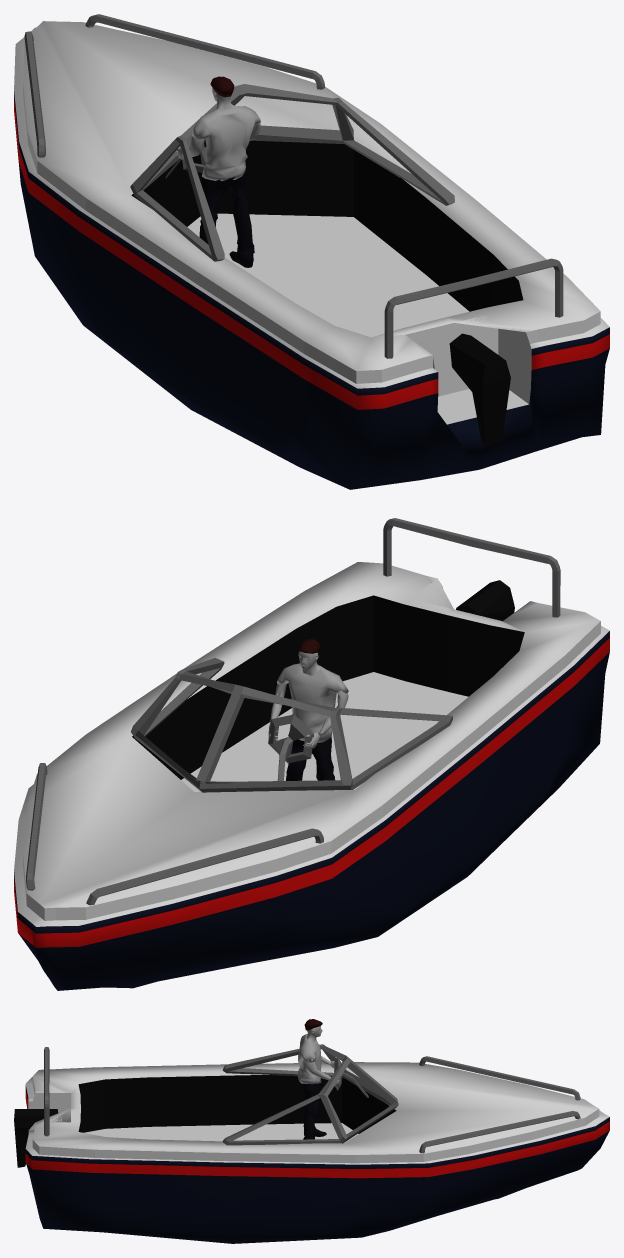
File: boat.fbx
3 renders of one model, top to bottom at view 1: azimuth 30°, elevation 25°; view 2: azimuth 150°, elevation 25°; view 3: azimuth 270°, elevation 25°, orthographic. The views are drawn at different scales.
Parts seen in each view (by area): view 1: node_id4 (×5), node_id10, node_id12 (×3), node_id18; view 2: node_id4 (×5), node_id10, node_id12 (×3), node_id18; view 3: node_id4 (×5), node_id10, node_id12 (×3), node_id18.
Part boxes in pixels (x1,y1,x2,y2): node_id4 (×5): (14, 21, 609, 489); node_id10: (24, 14, 563, 358); node_id12 (×3): (176, 87, 260, 263); node_id18: (449, 333, 510, 446); node_id4 (×5): (14, 562, 609, 990); node_id10: (26, 518, 560, 905); node_id12 (×3): (268, 651, 348, 780); node_id18: (456, 580, 514, 621); node_id4 (×5): (25, 1062, 609, 1243); node_id10: (44, 1044, 580, 1153); node_id12 (×3): (297, 1026, 339, 1139); node_id18: (14, 1109, 58, 1167).
Size of the model in its own units: 0.512 by 0.4231 by 1.34.
